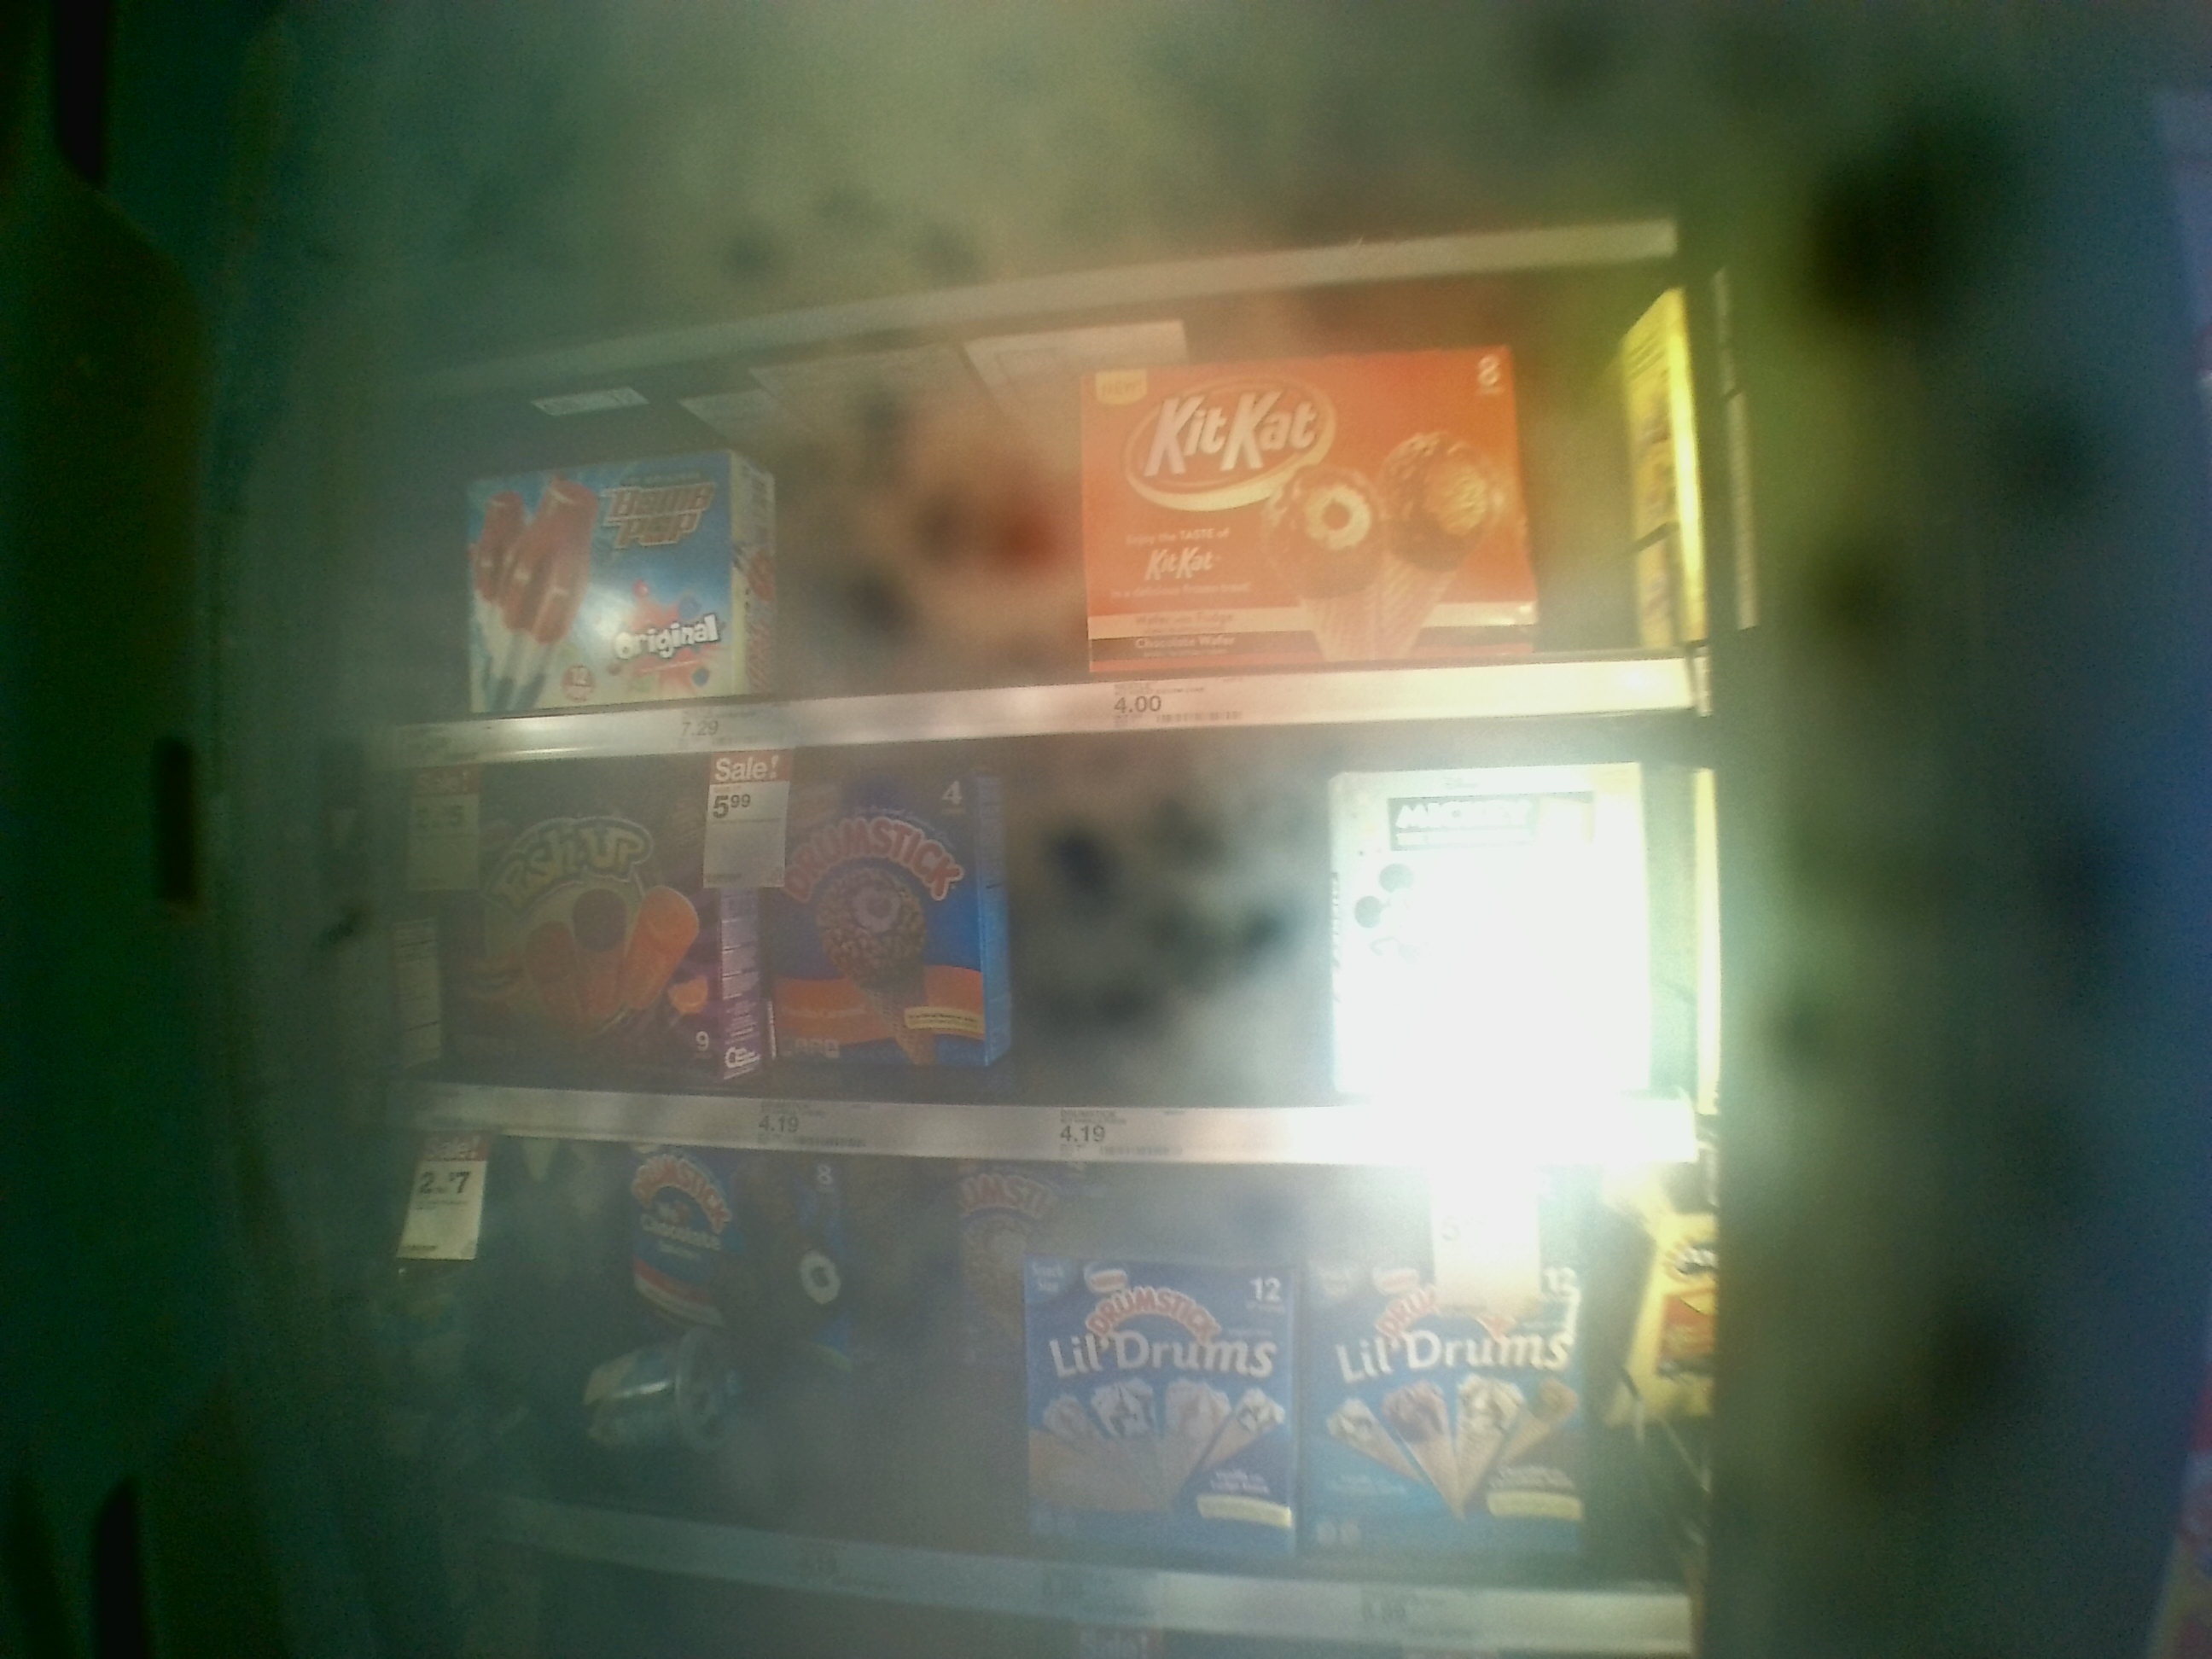shelf: (399, 1140, 1716, 1659), (381, 697, 1719, 1173), (380, 277, 1696, 751)
